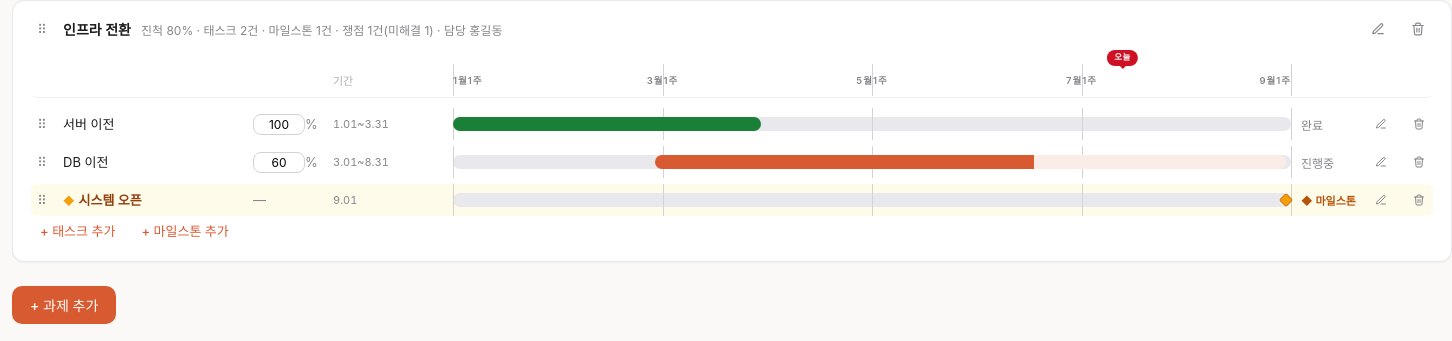
과제 헤더 클릭으로 접고 펼친다
The image size is (1452, 341).
Expected: the text "서버 이전" is shown, [63,116,114,132]
Click the text "인프라 전환" at {"x": 97, "y": 29}, box [63,19,131,39]
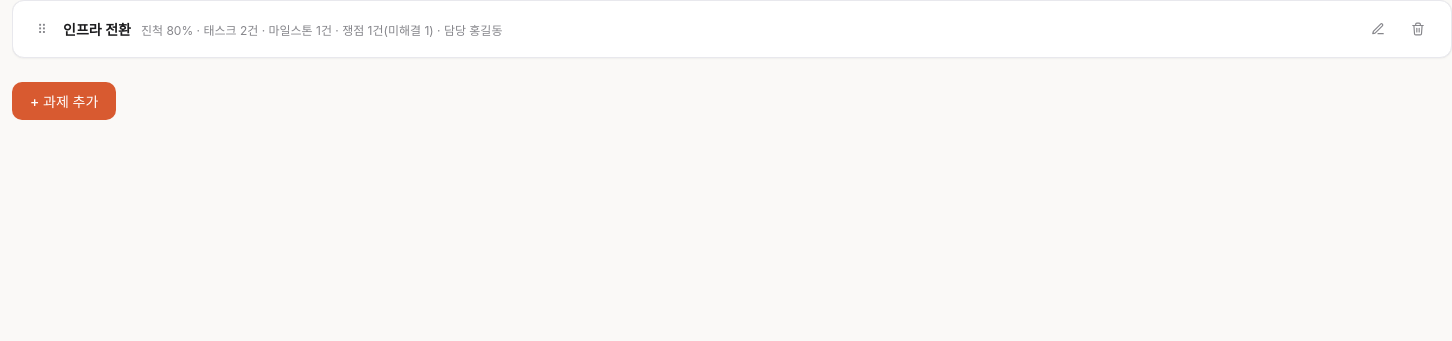
Expected: the text "서버 이전" is gone
